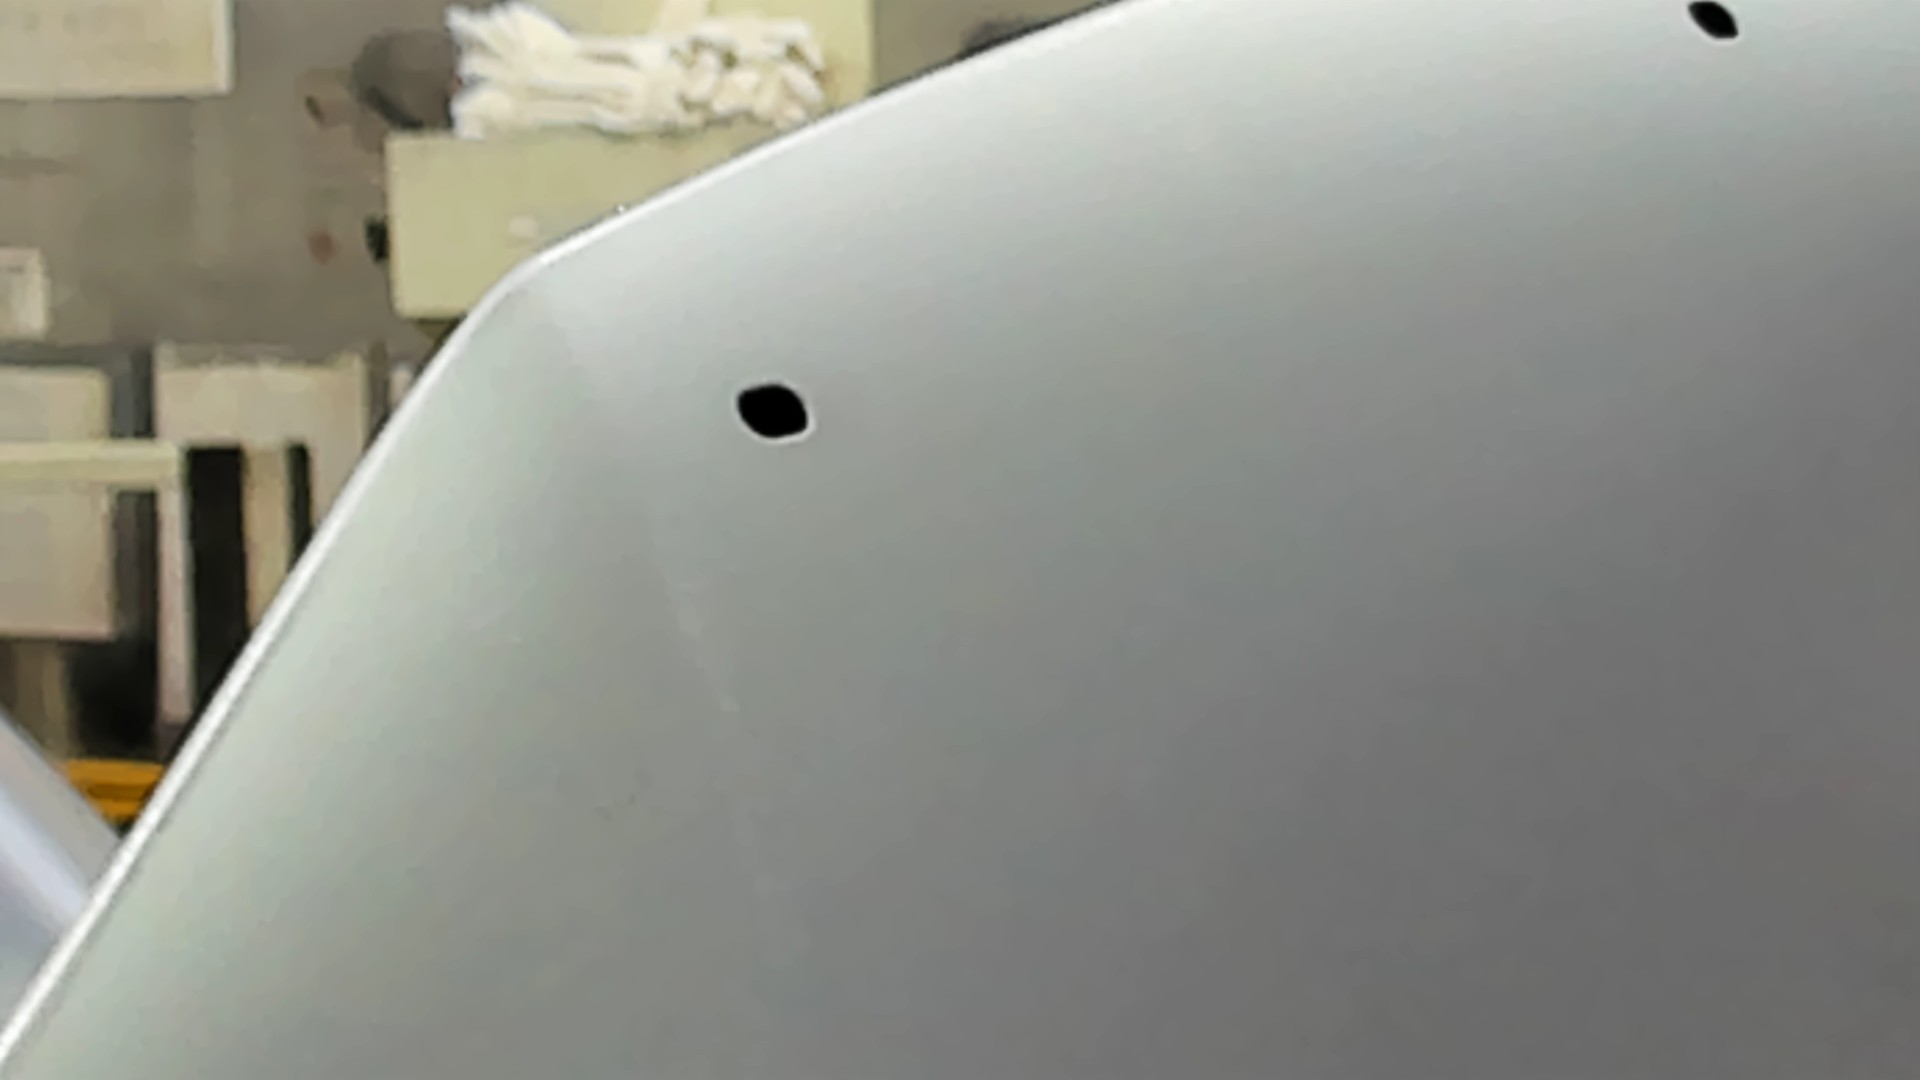amorfo: (729, 377, 816, 444), (1675, 1, 1749, 45)
